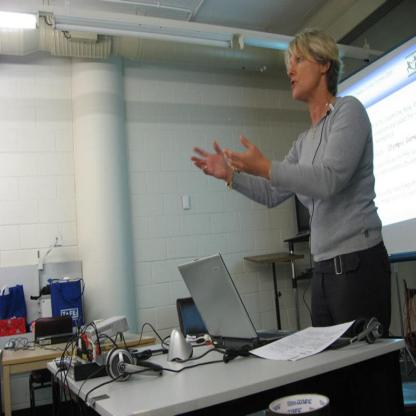board: (177, 254, 293, 349)
